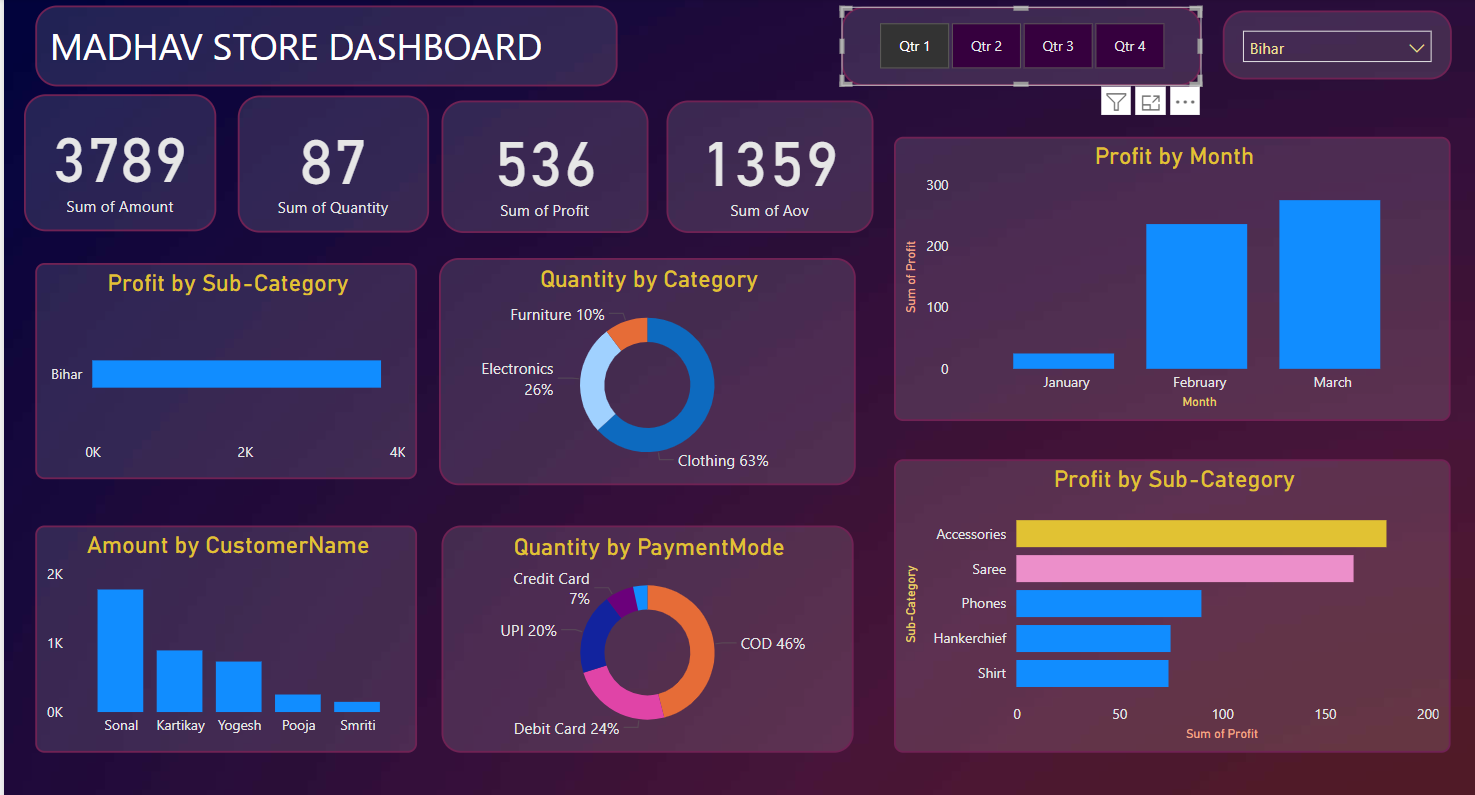

This screenshot's page, from the dashboard's own definition file:
{"tool":"powerbi","page":{"name":"Page 1","canvas":[1280,720],"ordinal":0},"visuals":[{"type":"textbox","box":[27.5,15,506.2,70],"z":0},{"type":"lineClusteredColumnComboChart","title":"Profit by Month","fields":{"Category":["Orders.Order Date.Variation.Date Hierarchy.Month"],"Y":["Details.Profit"]},"box":[773.9,129,484.4,247],"z":1000},{"type":"barChart","title":"Profit by Sub-Category","fields":{"Category":["Details.Sub-Category"],"Y":["Details.Profit"]},"box":[773.9,410.3,484.4,255.2],"z":2000},{"type":"donutChart","title":" Quantity by Category","fields":{"Category":["Details.Category"],"Y":["Details.Quantity"]},"box":[378.7,234.6,362.3,197.6],"z":3000},{"type":"donutChart","title":"Quantity by PaymentMode","fields":{"Category":["Details.PaymentMode"],"Y":["Details.Quantity"]},"box":[380.1,467.9,358.1,197.6],"z":4000},{"type":"card","fields":{"Values":["Details.Amount"]},"box":[17.8,91.9,167.4,119.4],"z":5000},{"type":"card","fields":{"Values":["Details.Quantity"]},"box":[203.1,93.3,166,119.4],"z":6000},{"type":"card","fields":{"Values":["Details.Profit"]},"box":[380.1,97.4,179.8,115.3],"z":7000},{"type":"card","fields":{"Values":["Details.Aov"]},"box":[576.3,97.4,179.8,115.3],"z":8000},{"type":"barChart","title":"Profit by Sub-Category","fields":{"Category":["Orders.State"],"Y":["Details.Amount"]},"box":[27.4,238.8,332.1,188],"z":9000},{"type":"columnChart","title":"Amount by CustomerName","fields":{"Category":["Orders.CustomerName"],"Y":["Details.Amount"]},"box":[27.4,467.9,332.1,197.6],"z":10000},{"type":"slicer","fields":{"Values":["Orders.Order Date.Variation.Date Hierarchy.Quarter"]},"box":[728.8,16.2,312.5,68.8],"z":11000},{"type":"slicer","fields":{"Values":["Orders.State"]},"box":[1059.4,19.2,199,60.4],"z":12000}]}

Visuals, with their boxes on the page's 1280x720 design canvas (x1, y1, x2, y2). These are canvas units, not pixel positions in the 1475x795 screenshot, which may show the page scaled, cropped or inside an application window:
textbox: (left=28, top=15, right=534, bottom=85)
"Profit by Month" lineClusteredColumnComboChart: (left=774, top=129, right=1258, bottom=376)
"Profit by Sub-Category" barChart: (left=774, top=410, right=1258, bottom=666)
" Quantity by Category" donutChart: (left=379, top=235, right=741, bottom=432)
"Quantity by PaymentMode" donutChart: (left=380, top=468, right=738, bottom=666)
card - Details.Amount: (left=18, top=92, right=185, bottom=211)
card - Details.Quantity: (left=203, top=93, right=369, bottom=213)
card - Details.Profit: (left=380, top=97, right=560, bottom=213)
card - Details.Aov: (left=576, top=97, right=756, bottom=213)
"Profit by Sub-Category" barChart: (left=27, top=239, right=360, bottom=427)
"Amount by CustomerName" columnChart: (left=27, top=468, right=360, bottom=666)
slicer - Orders.Order Date.Variation.Date Hierarchy.Quarter: (left=729, top=16, right=1041, bottom=85)
slicer - Orders.State: (left=1059, top=19, right=1258, bottom=80)
